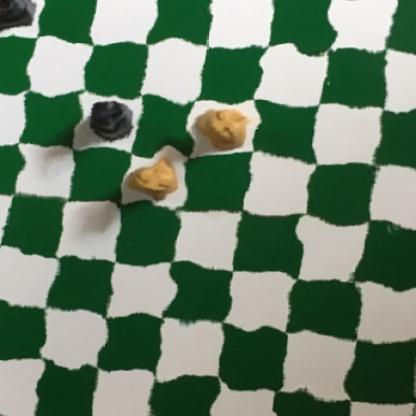black-rook: (79, 97, 141, 146), (0, 0, 42, 34)
white-rook: (193, 100, 253, 156), (125, 156, 174, 207)
